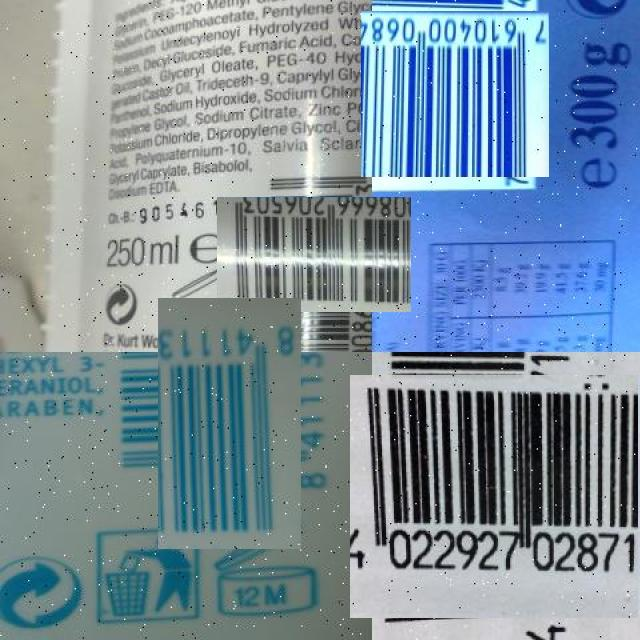Barcode: (361, 363, 627, 629), (131, 325, 328, 523), (366, 6, 544, 183), (237, 177, 392, 332)
